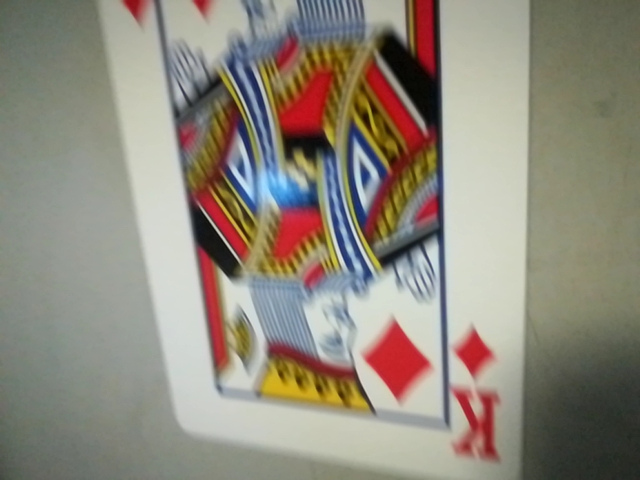fk k: (439, 323, 514, 475)
